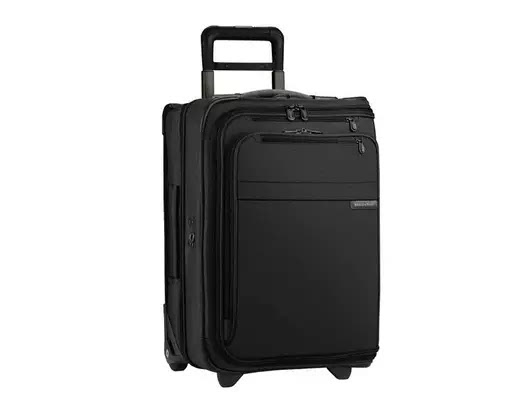suitcase: (158, 23, 386, 391)
